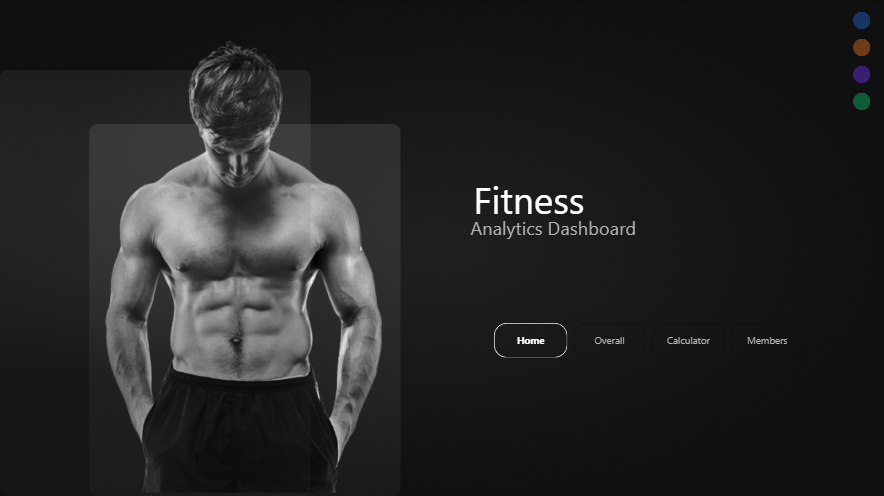

The dashboard page shown, as its layout file describes it:
{"tool":"powerbi","page":{"name":"Home","canvas":[1280,720],"ordinal":0},"visuals":[{"type":"shape","box":[673.7,242.9,182.2,86.7],"z":0},{"type":"shape","box":[673.7,286.3,503.1,86.7],"z":1000},{"type":"pageNavigator","box":[714.2,467,448.2,50.6],"z":2000},{"type":"advancedSlicerVisual","fields":{"Values":["ColorCodes.Icon"]},"box":[1226,14.5,40.5,151.8],"z":2001}]}

Visuals, with their boxes in screenshot pixels (x1, y1, x2, y2), scaled from the page's 1280x720 canvas onto the 884x496 screenshot:
shape: 465 167 591 227
shape: 465 197 813 257
pageNavigator: 493 322 803 357
advancedSlicerVisual - ColorCodes.Icon: 847 10 875 115
